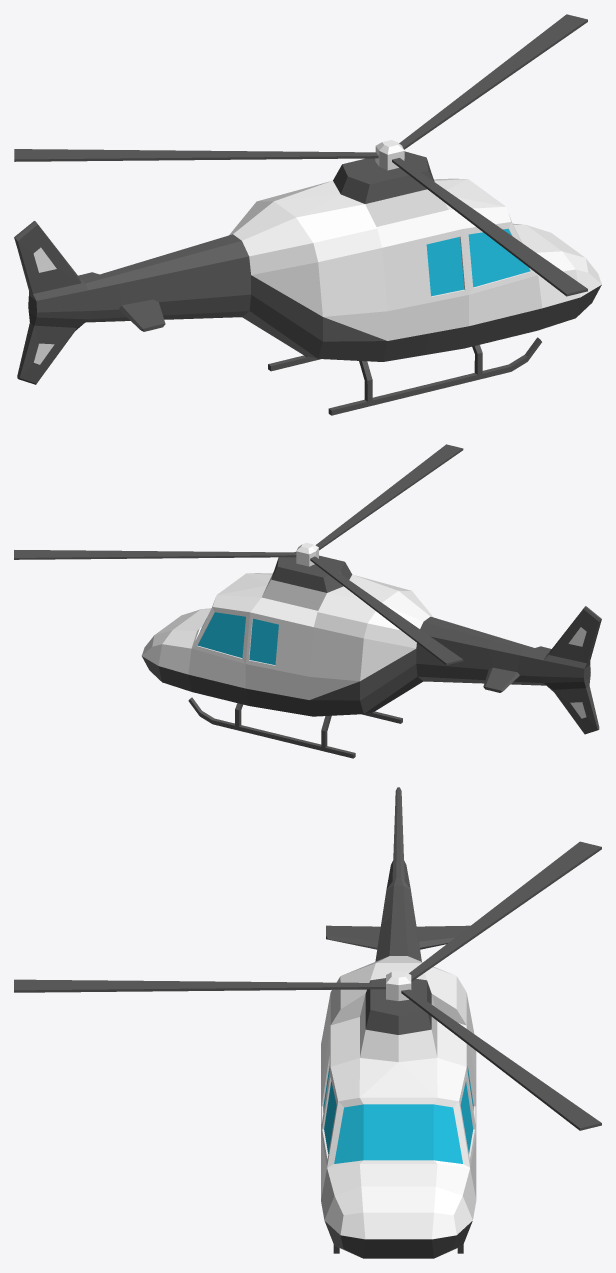
File: Helicopter_01.gltf
The picture shows the model from 3 angles, top to bottom: view 1: azimuth 30°, elevation 25°; view 2: azimuth 150°, elevation 25°; view 3: azimuth 270°, elevation 25°; orthographic projection. The views are drawn at different scales.
Visible parts, largest first — view 1: node-0; view 2: node-0; view 3: node-0.
Boxes of the visible parts, x1,y1,x2,y2 form: node-0: (14,14,601,415); node-0: (14,444,601,758); node-0: (14,787,601,1258).
Size of the model in its own units: 29.34 by 10 by 22.02.
